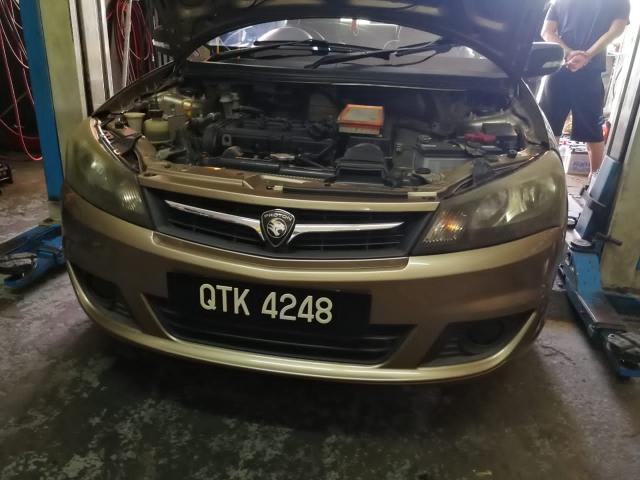License_Plate: (167, 273, 373, 343)
car: (47, 2, 563, 393)
